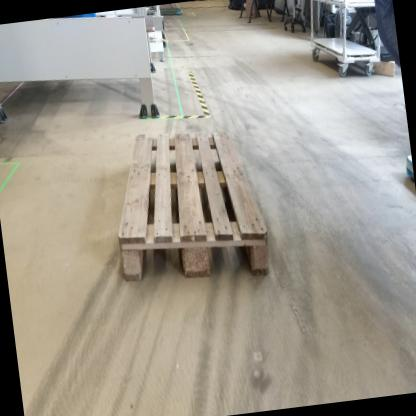BoxFace: (114, 128, 276, 285)
